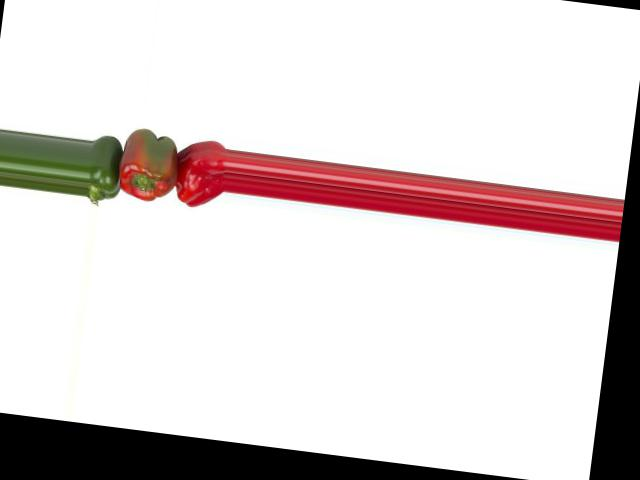bell_pepper: (169, 133, 229, 216)
